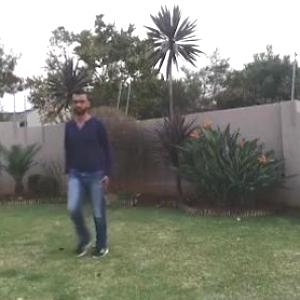follow: (64, 91, 108, 245)
